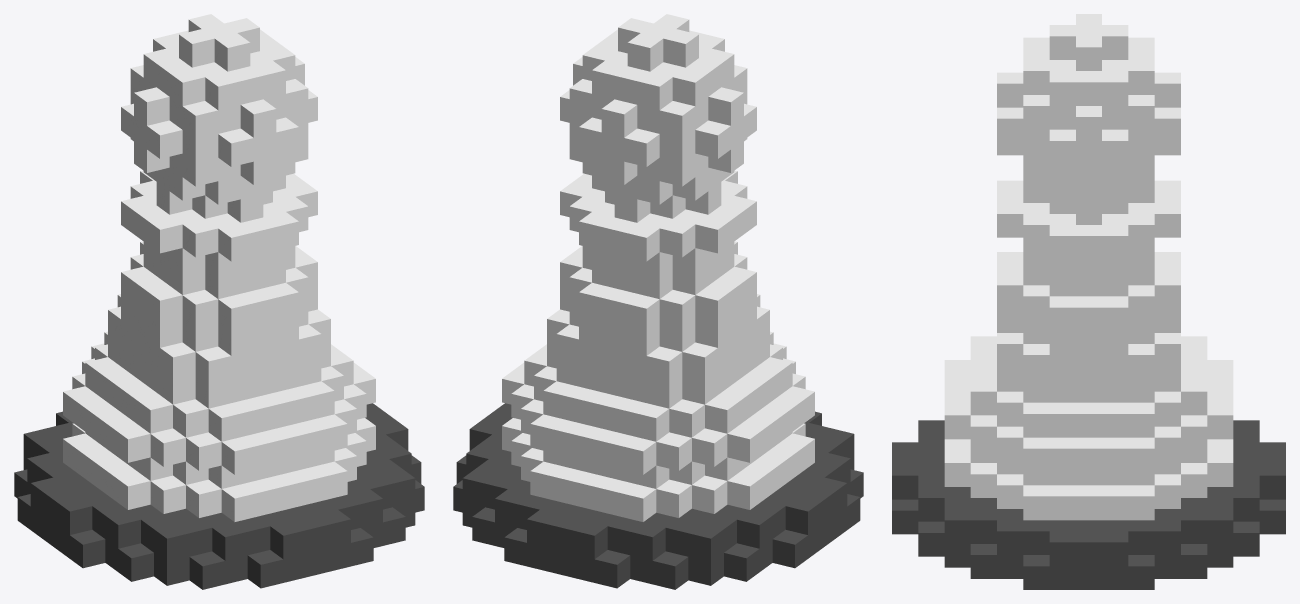
Rendered from Unit_Pawn.fbx.
The picture shows the model from 3 angles, left to right: view 1: azimuth 30°, elevation 25°; view 2: azimuth 150°, elevation 25°; view 3: azimuth 270°, elevation 25°; orthographic projection.
Visible parts, largest first — view 1: Unit_Pawn_White; view 2: Unit_Pawn_White; view 3: Unit_Pawn_White.
Boxes of the visible parts, x1,y1,x2,y2 form: Unit_Pawn_White: (14,14,424,589); Unit_Pawn_White: (453,14,863,589); Unit_Pawn_White: (892,14,1285,589).
Bounding box in the file's own units: 93.75 × 125 × 93.75.
1 material, 1 textured.
